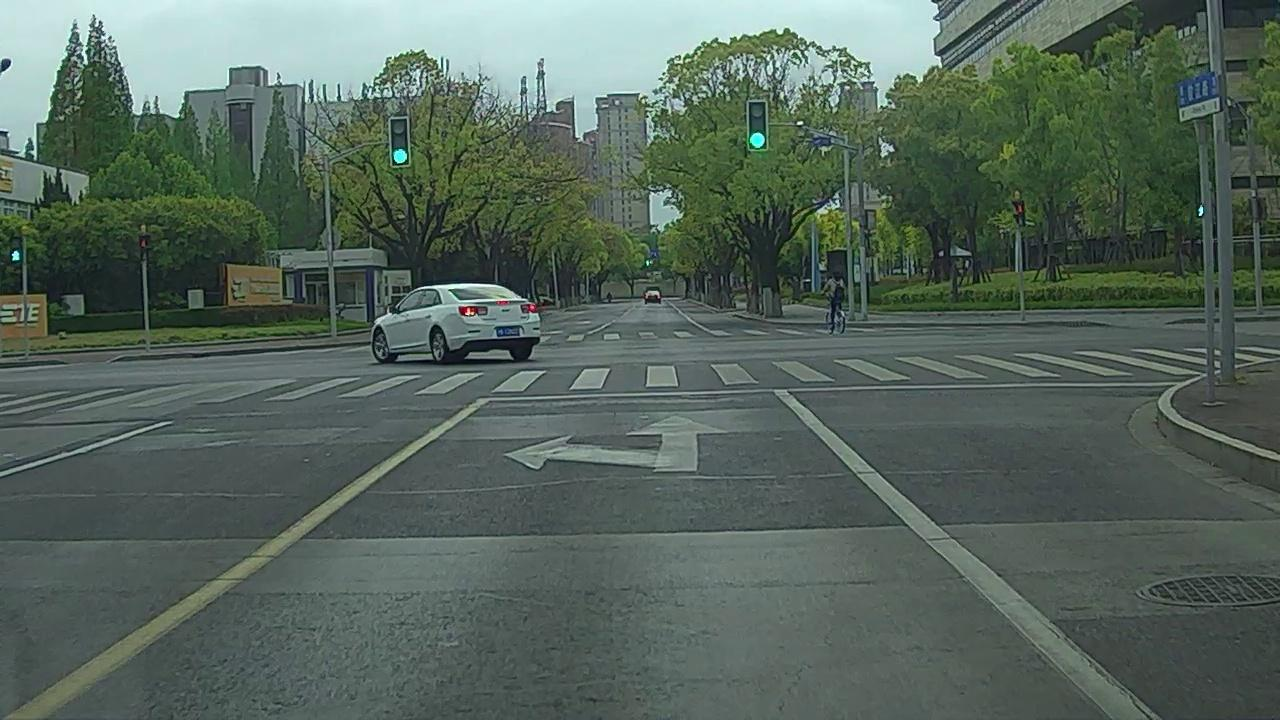traffic_light: (391, 116, 410, 167), (749, 101, 768, 152)
